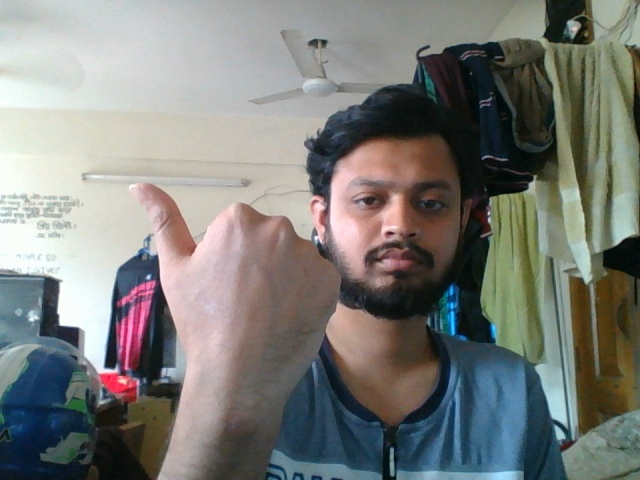do: (119, 174, 344, 480)
